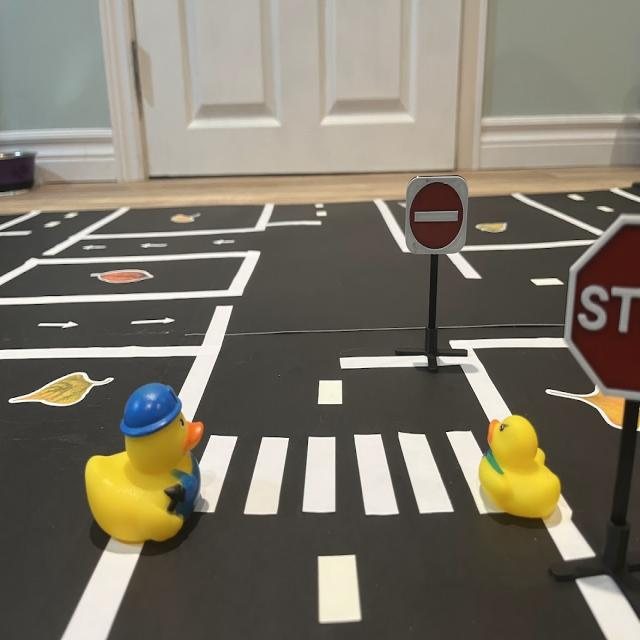duck_regular: (479, 416, 562, 525)
duck_specialty: (85, 385, 207, 549)
road_crosswalk: (195, 421, 519, 520)
road_oneway: (129, 315, 178, 332), (36, 317, 81, 334), (137, 240, 174, 251), (81, 241, 111, 253), (211, 237, 237, 250)
sign_noentry: (405, 176, 471, 260)
sign_stop: (565, 219, 640, 401)
